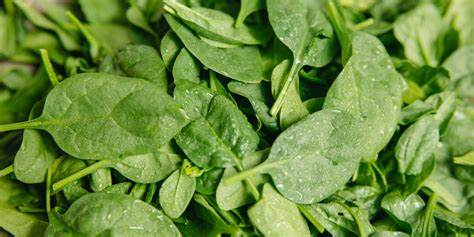Spinach: (0, 0, 474, 237)
